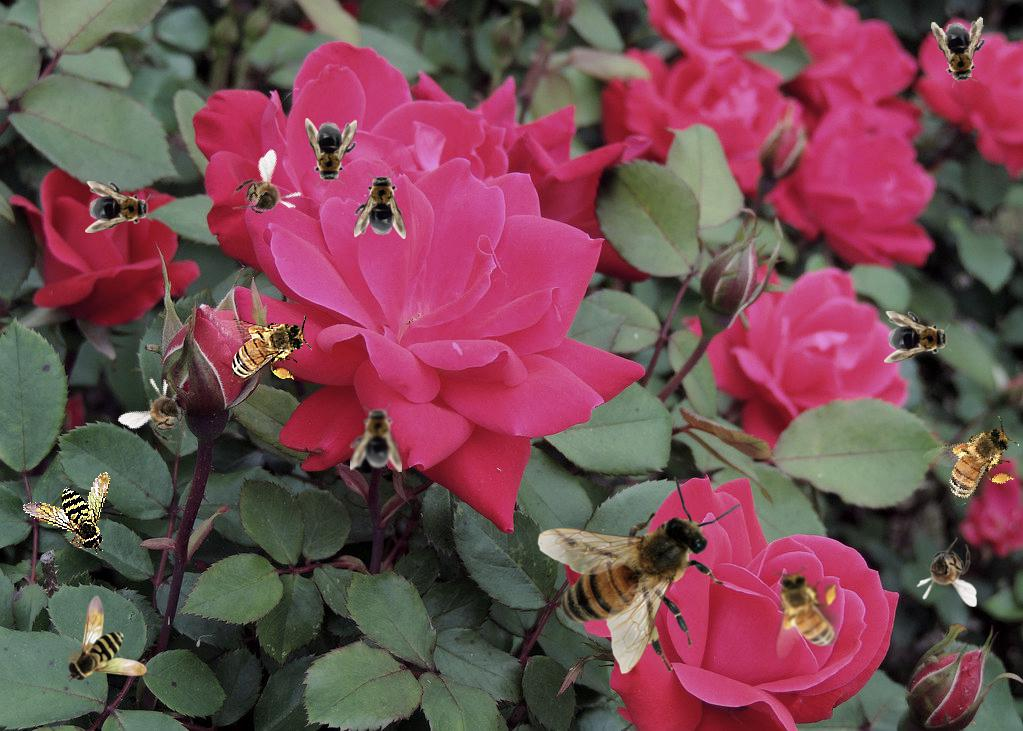Bee: (537, 475, 741, 674), (15, 456, 119, 556), (919, 413, 1023, 512), (219, 148, 312, 240), (116, 368, 209, 456), (65, 595, 147, 683), (772, 566, 840, 659), (219, 315, 312, 383), (930, 14, 992, 90), (916, 537, 977, 607), (884, 311, 952, 363), (354, 171, 406, 239), (305, 118, 357, 186), (350, 404, 402, 472), (85, 181, 153, 233)
